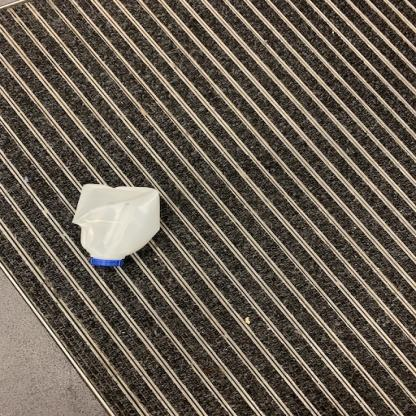trash: (72, 180, 166, 278)
